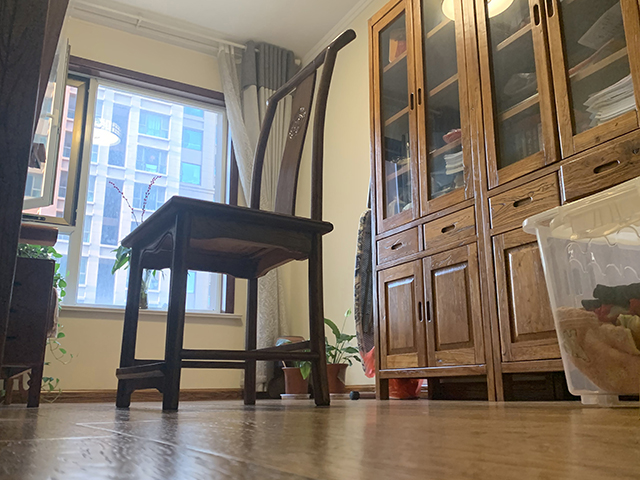cabinet: (379, 107, 640, 401)
curtain: (218, 38, 301, 391)
sofa: (1, 223, 58, 410)
stool: (113, 27, 357, 412)
